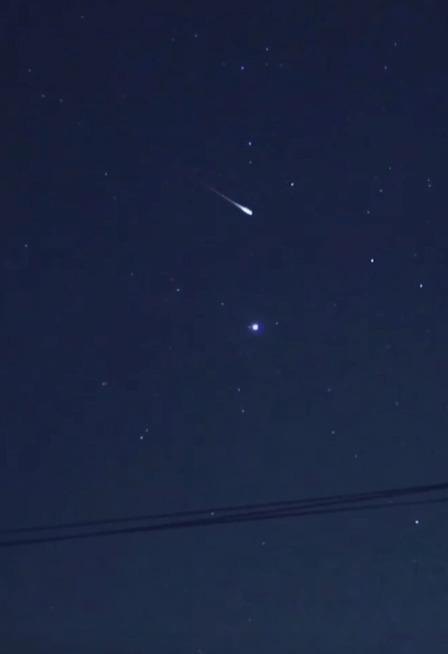meteorite: (192, 173, 266, 226)
